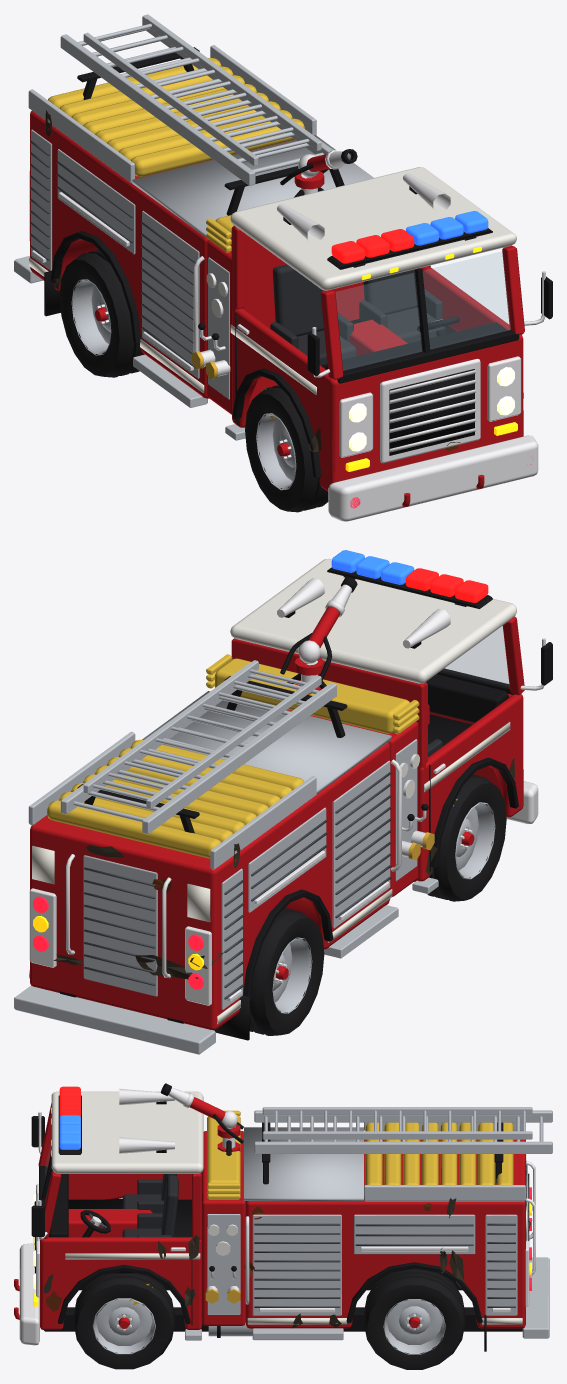
Rendered from fire_truck.glb.
The picture shows the model from 3 angles, top to bottom: view 1: azimuth 30°, elevation 25°; view 2: azimuth 150°, elevation 25°; view 3: azimuth 270°, elevation 25°; orthographic projection. The views are drawn at different scales.
Parts seen in each view (by area): view 1: Body, WheelRR, WheelFR, LightBar, Cannon; view 2: Body, WheelRR, WheelFR, LightBar, Cannon; view 3: Body, WheelRL, WheelFL, LightBar, Cannon, Steering.
Part boxes in pixels (<box>): Body: <box>14,14,552,521</box>; WheelRR: <box>59,250,144,377</box>; WheelFR: <box>245,385,328,512</box>; LightBar: <box>327,211,492,269</box>; Cannon: <box>280,149,357,189</box>; Body: <box>14,558,552,1054</box>; WheelRR: <box>249,908,324,1035</box>; WheelFR: <box>414,774,506,901</box>; LightBar: <box>327,550,492,608</box>; Cannon: <box>280,577,357,682</box>; Body: <box>14,1088,552,1351</box>; WheelRL: <box>364,1268,465,1369</box>; WheelFL: <box>73,1273,174,1369</box>; LightBar: <box>58,1086,81,1154</box>; Cannon: <box>160,1083,243,1143</box>; Steering: <box>80,1210,110,1233</box>.
Bounding box in the file's own units: 1.29 × 1.63 × 3.19.
